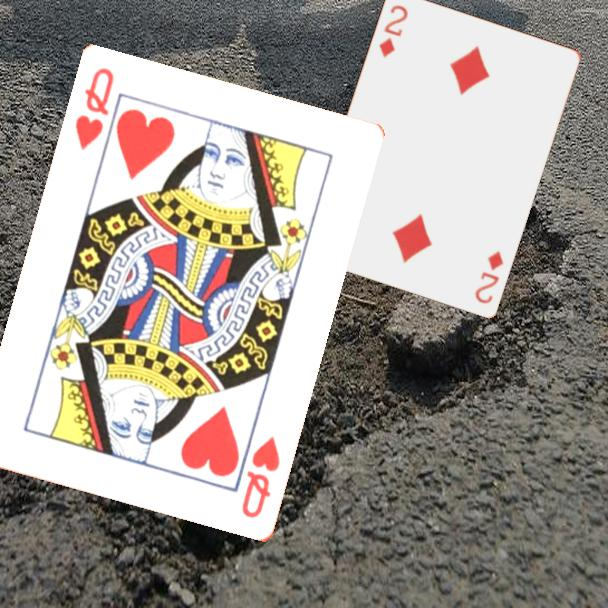d02: (375, 1, 411, 60), (471, 247, 506, 306)
h12: (72, 64, 117, 154), (238, 433, 283, 522)
